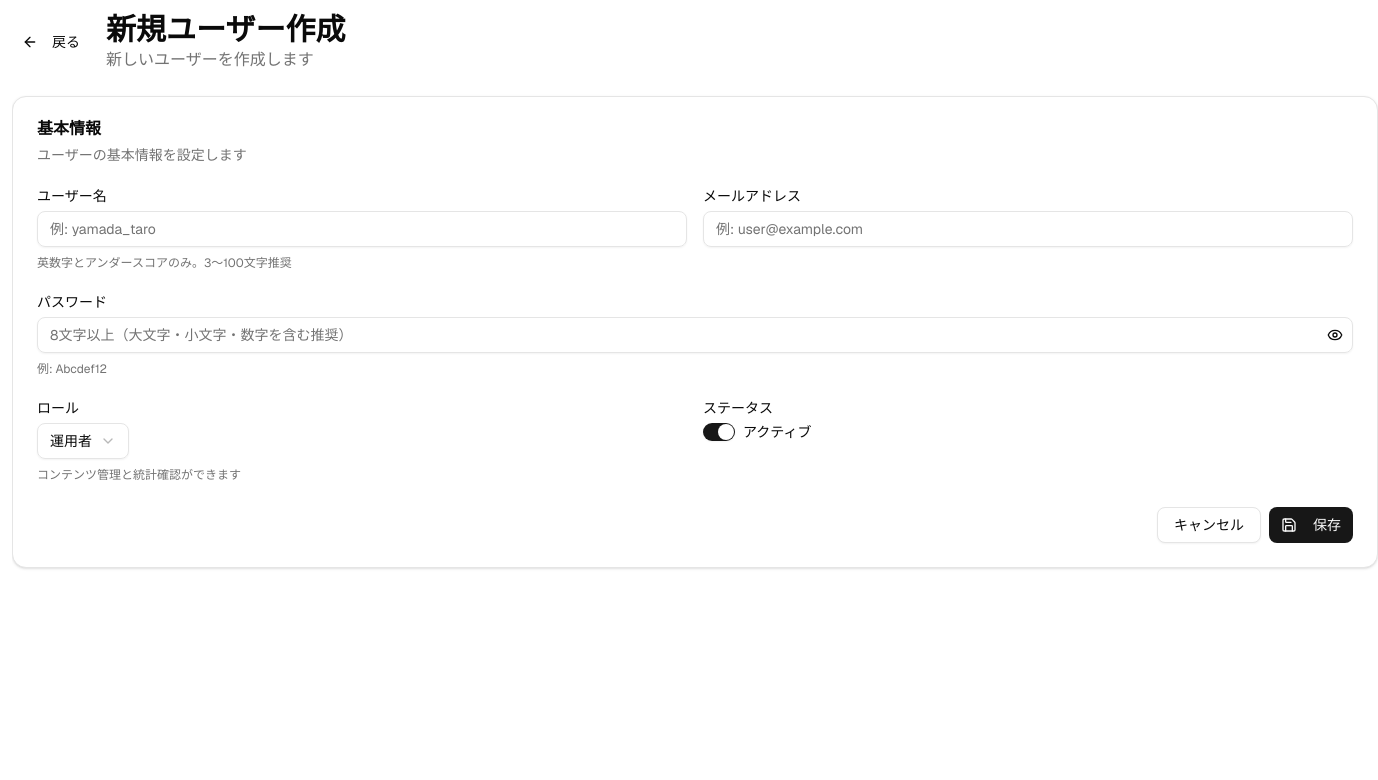
UserForm › 作成モード › バリデーションエラー - ユーザー名が短すぎる
The image size is (1378, 780).
// メールアドレスを入力
Type "test@example.com" into the field labelled "メールアドレス" at (1028, 229), box [703, 211, 1353, 247]
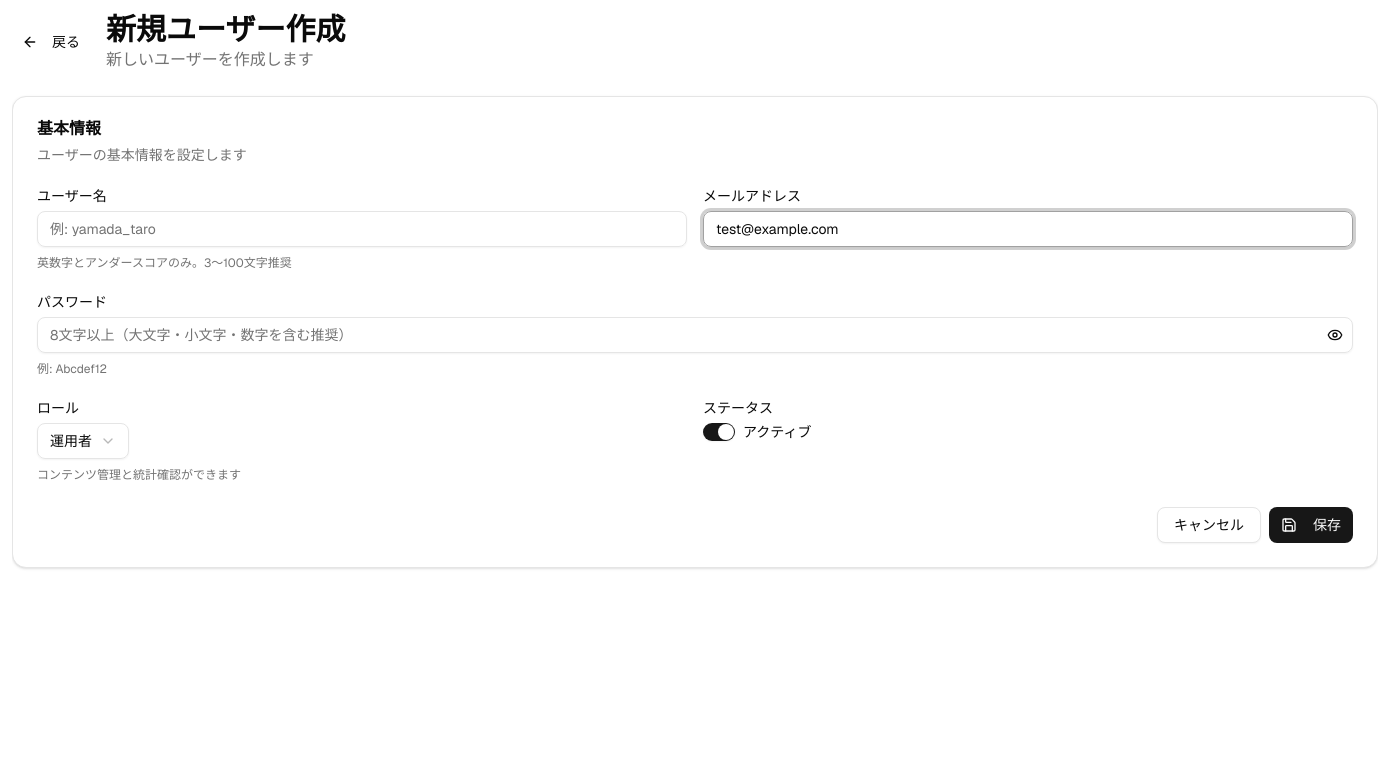
// ユーザー名に1文字を入力
Type "A" into the field labelled "ユーザー名" at (362, 229), box [37, 211, 687, 247]
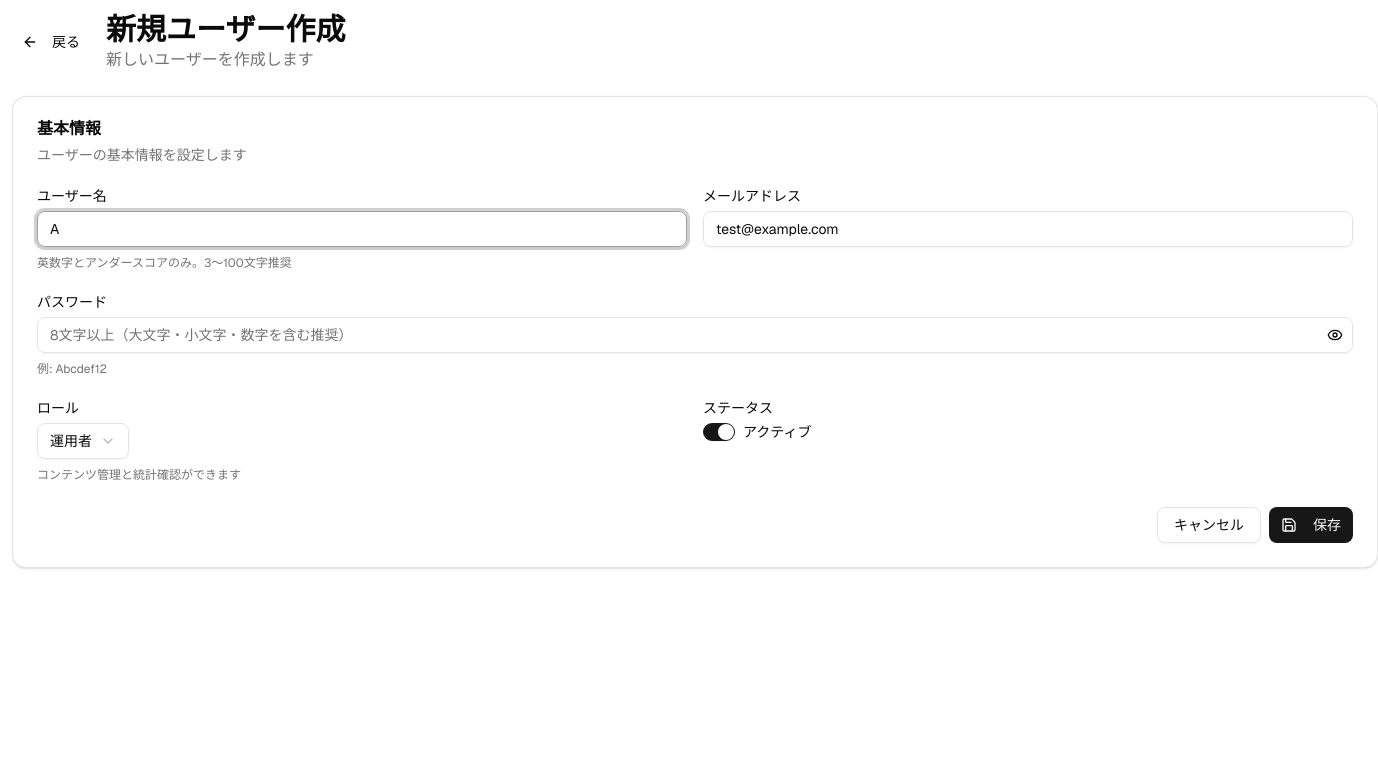
// 保存ボタンをクリック
Click the button "保存" at (1311, 525), box [1269, 507, 1353, 543]
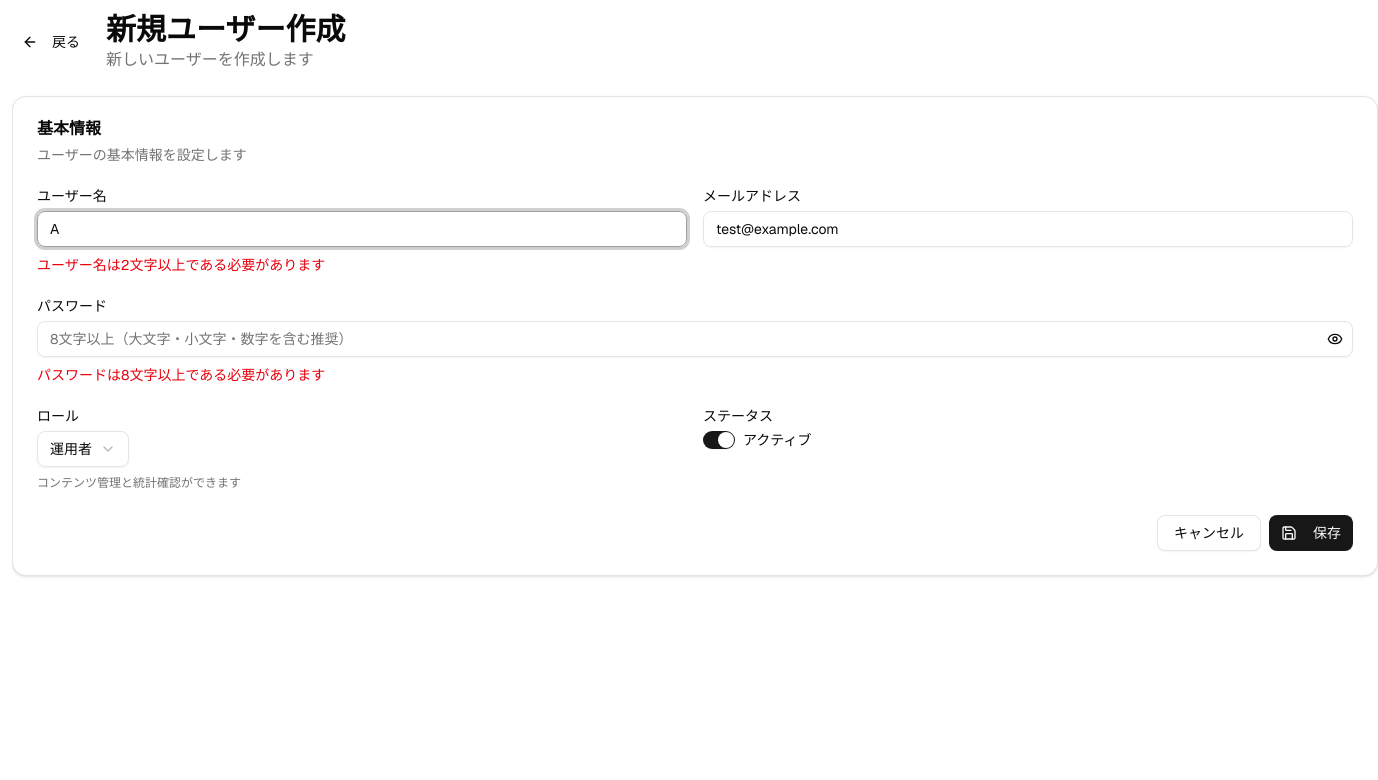
Expected: the text "ユーザー名は2文字以上である必要があります" is shown, [37, 256, 325, 274]
